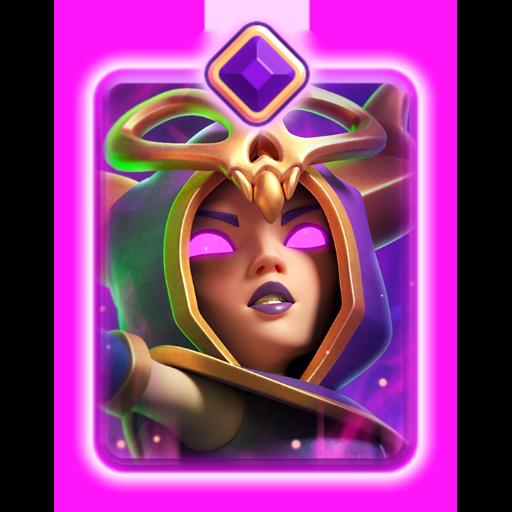witch-evo: (102, 80, 410, 468)
